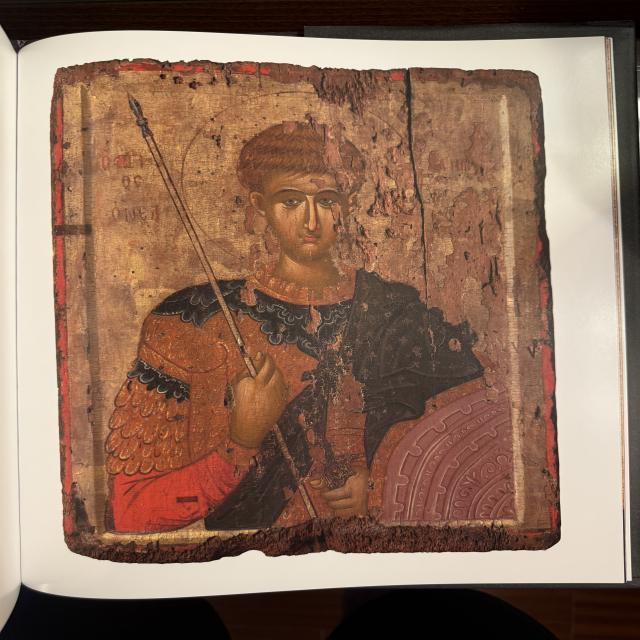aura: (185, 92, 419, 282)
shield: (373, 372, 520, 520)
spear: (124, 88, 331, 520)
st_george: (93, 83, 517, 522)
